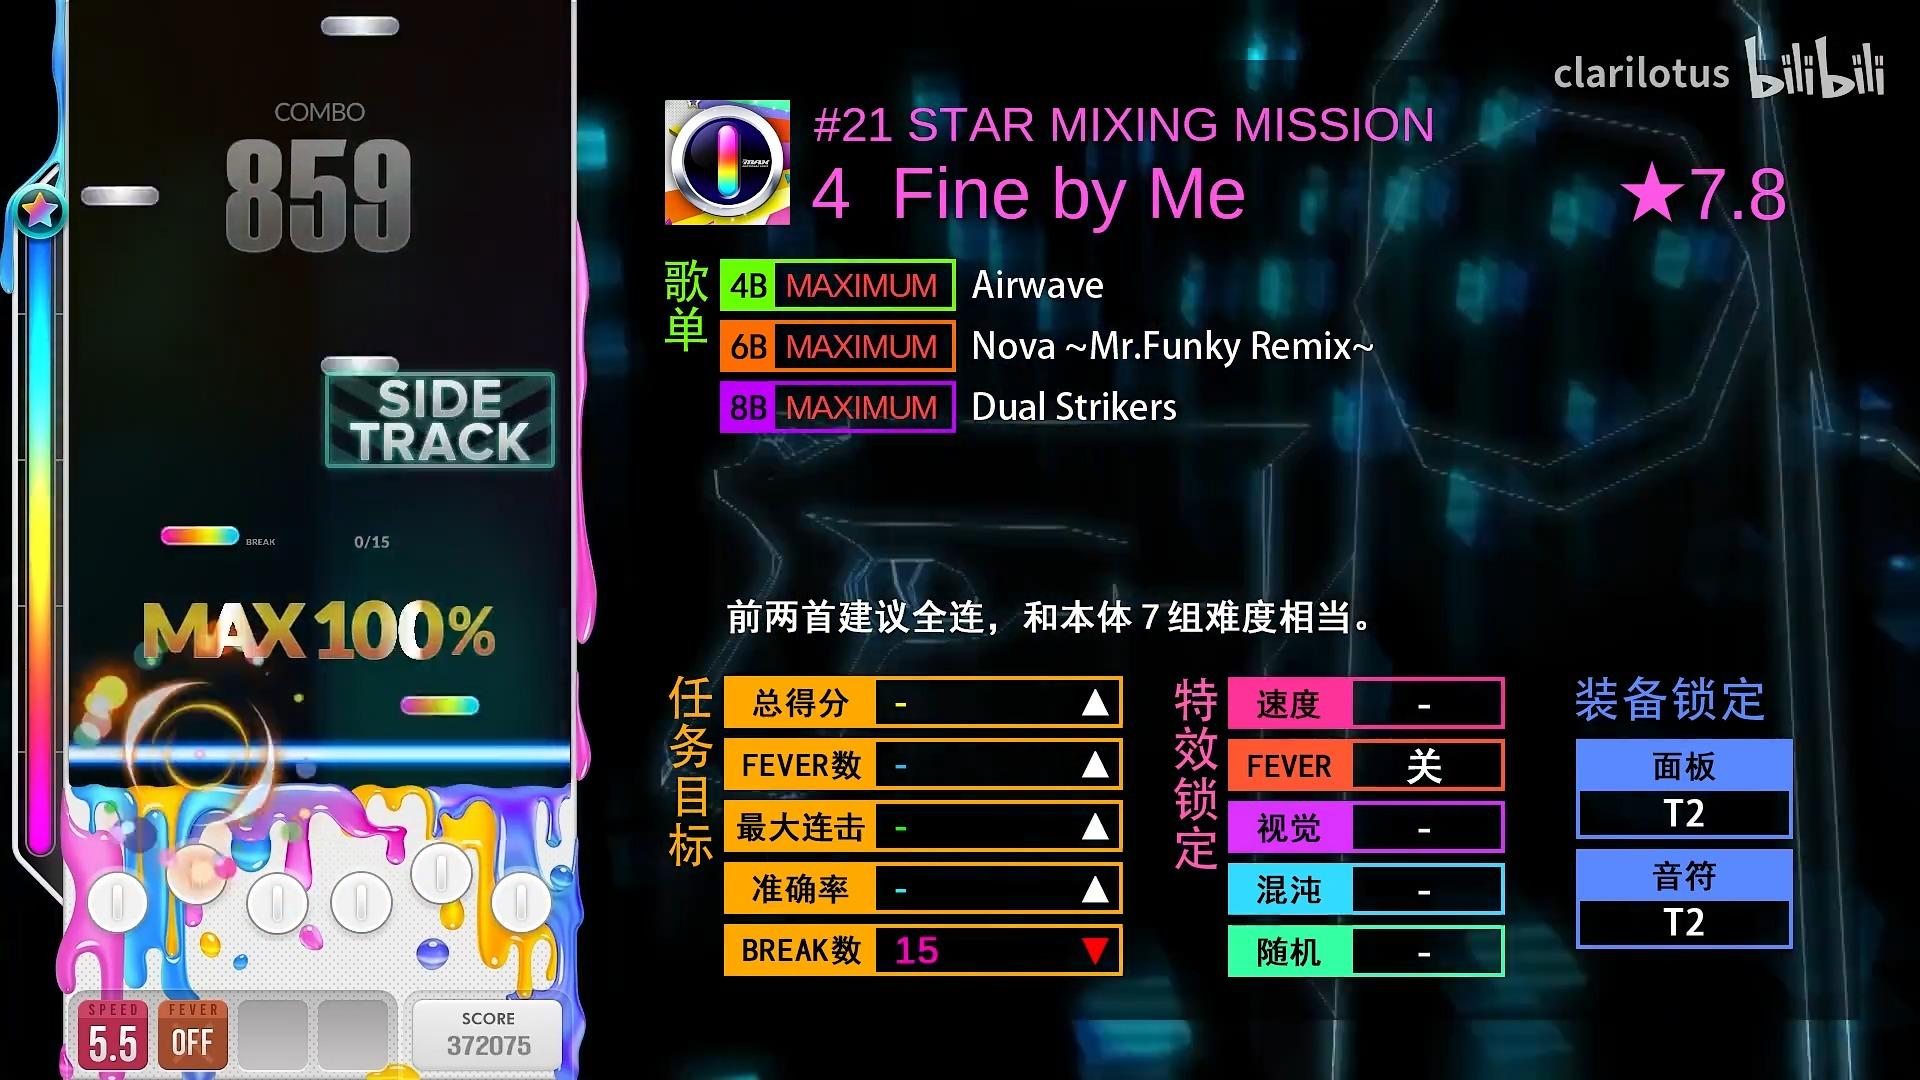note: (322, 356, 400, 378), (161, 525, 240, 545), (401, 696, 480, 716), (322, 16, 398, 36), (80, 187, 160, 206)
